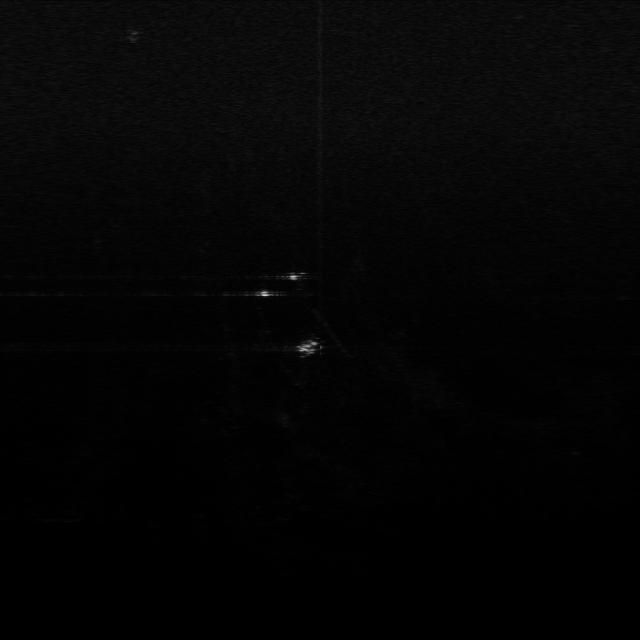rov: (292, 335, 326, 361)
